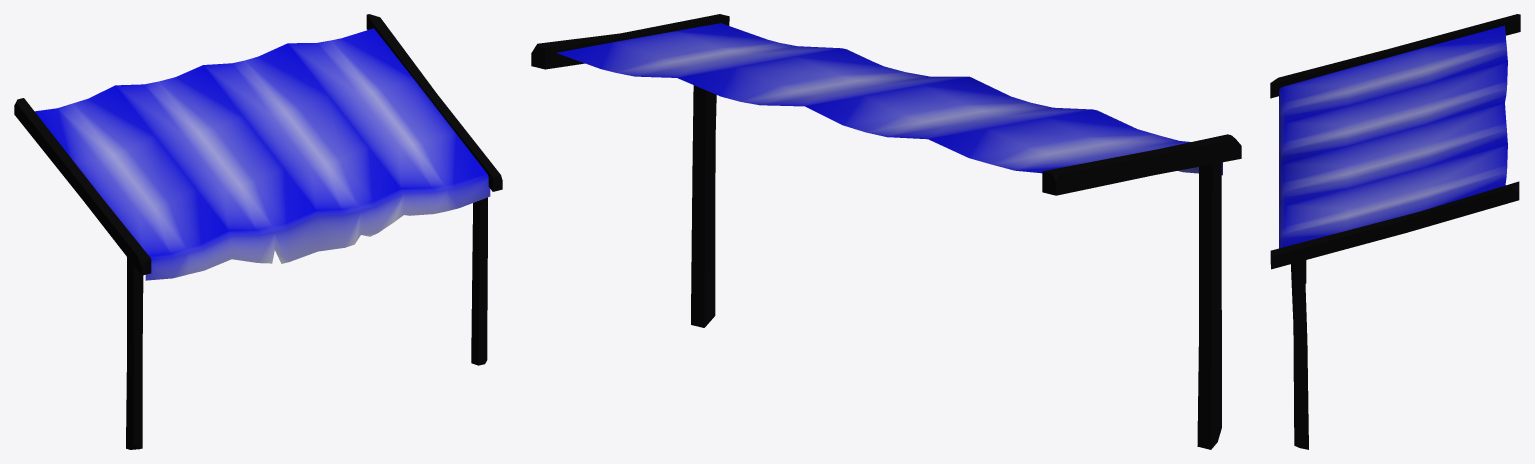
File: SM_Bld_Canopy_02.fbx
The picture shows the model from 3 angles, left to right: view 1: azimuth 30°, elevation 25°; view 2: azimuth 150°, elevation 25°; view 3: azimuth 270°, elevation 25°; orthographic projection. The views are drawn at different scales.
Visible parts, largest first — view 1: SM_Bld_Canopy_02; view 2: SM_Bld_Canopy_02; view 3: SM_Bld_Canopy_02.
Boxes of the visible parts, left/top/right/bottom form: SM_Bld_Canopy_02: left=14, top=14, right=502, bottom=449; SM_Bld_Canopy_02: left=531, top=14, right=1241, bottom=449; SM_Bld_Canopy_02: left=1270, top=14, right=1520, bottom=449.
Bounding box in the file's own units: 460 × 329 × 281.
